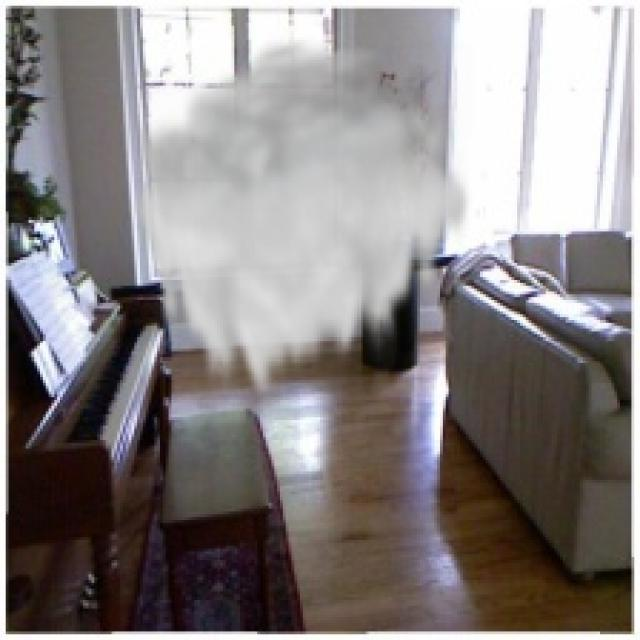Smoke: (132, 31, 474, 412)
